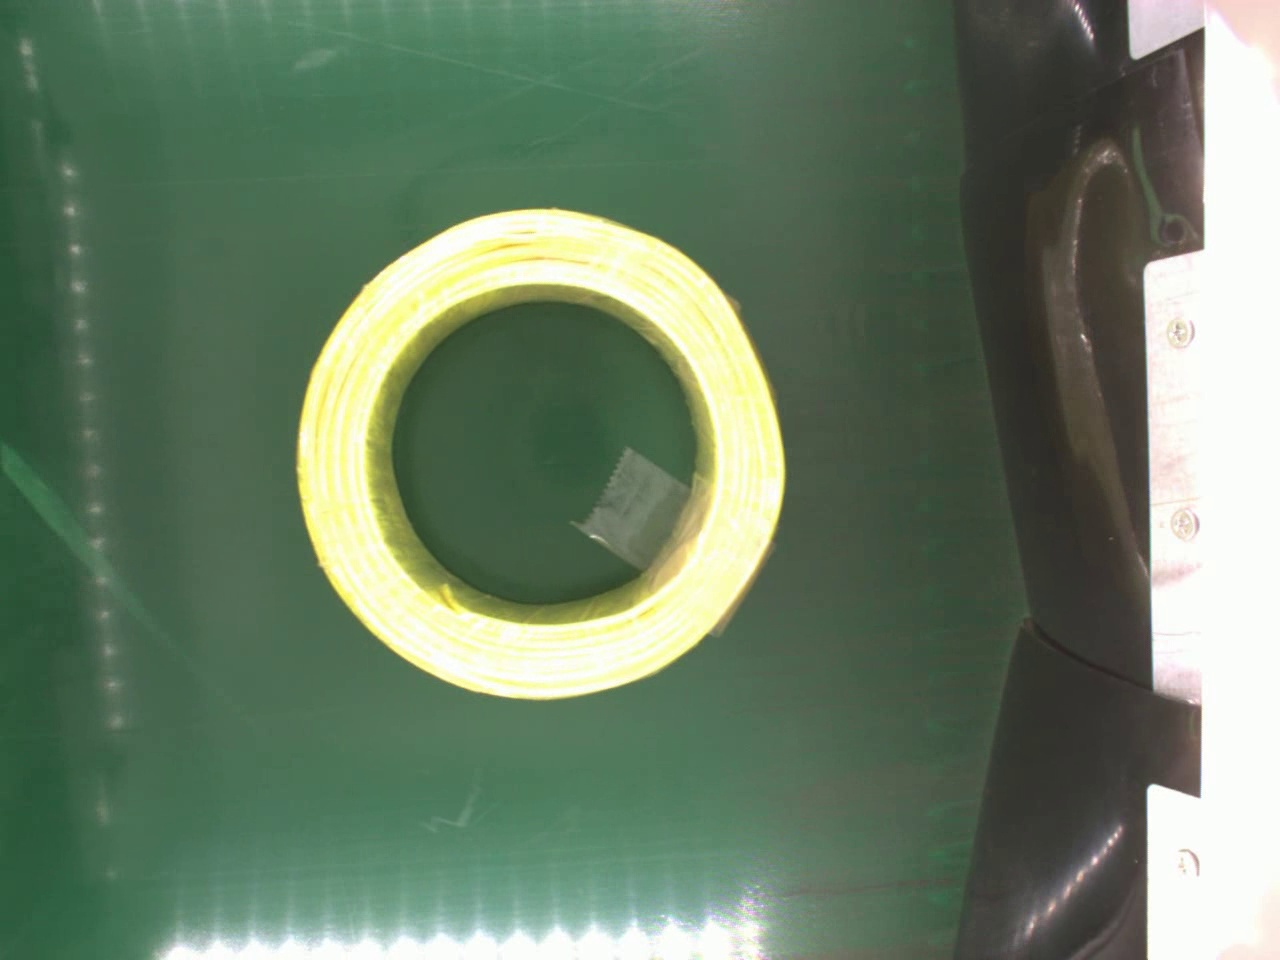yellow: (288, 210, 789, 697)
